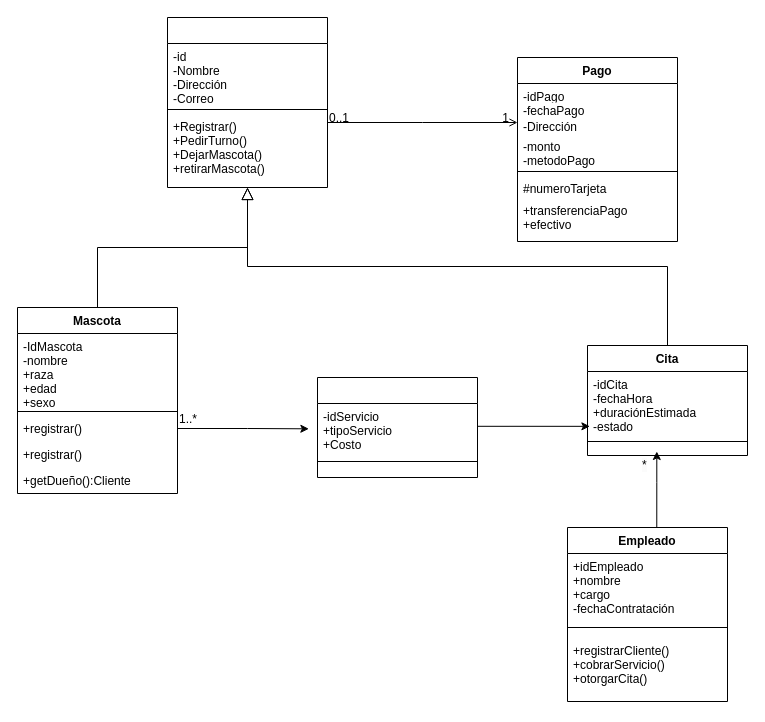
The diagram is 765 pixels wide and 722 high, and some of its shapes have lost their labels. Here are the shapes that lost their labels. From the top down, the box of each, then its label:
(166, 16, 328, 188): Cliente
(316, 376, 478, 478): ServicioEstetica
